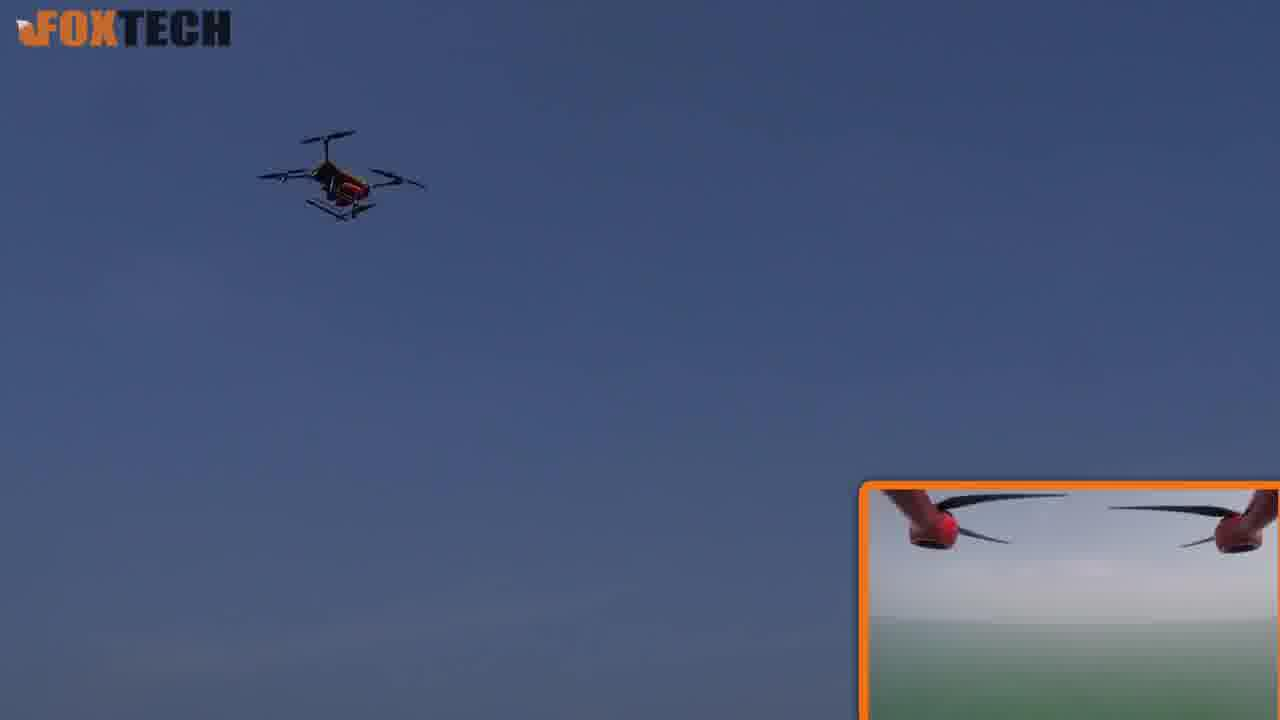drone: (247, 125, 434, 237)
